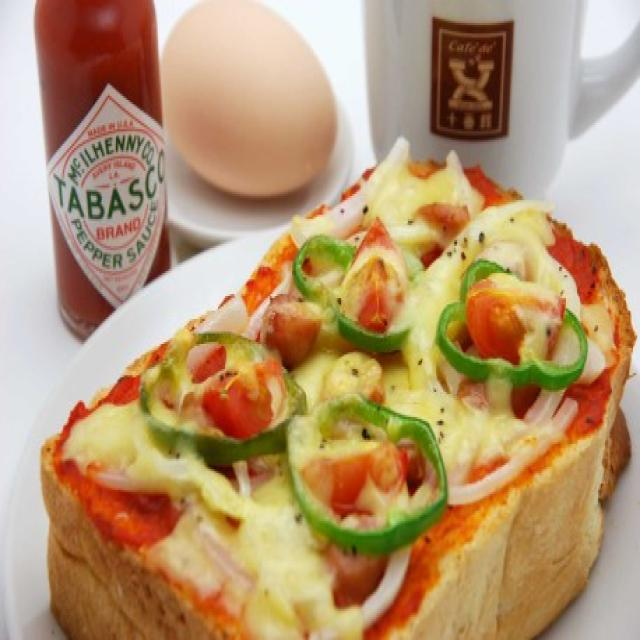面包点心: (28, 142, 633, 640)
